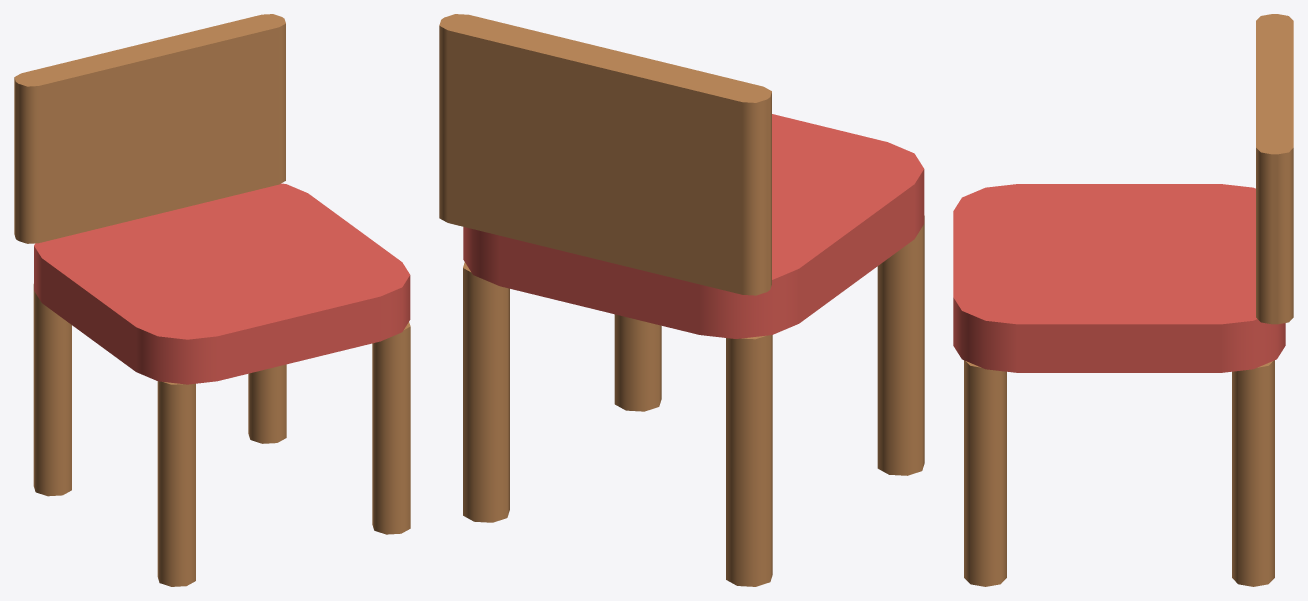
Rendered from chair.glb.
3 renders of one model, left to right at view 1: azimuth 30°, elevation 25°; view 2: azimuth 150°, elevation 25°; view 3: azimuth 270°, elevation 25°, orthographic. The views are drawn at different scales.
Parts seen in each view (by area): view 1: chair; view 2: chair; view 3: chair.
Boxes of the visible parts, left/top/right/bottom form: chair: left=14, top=14, right=410, bottom=586; chair: left=439, top=14, right=924, bottom=586; chair: left=953, top=14, right=1293, bottom=586.
Bounding box in the file's own units: 0.62 × 0.9 × 0.635.
